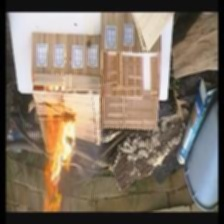fire: (35, 98, 91, 213)
